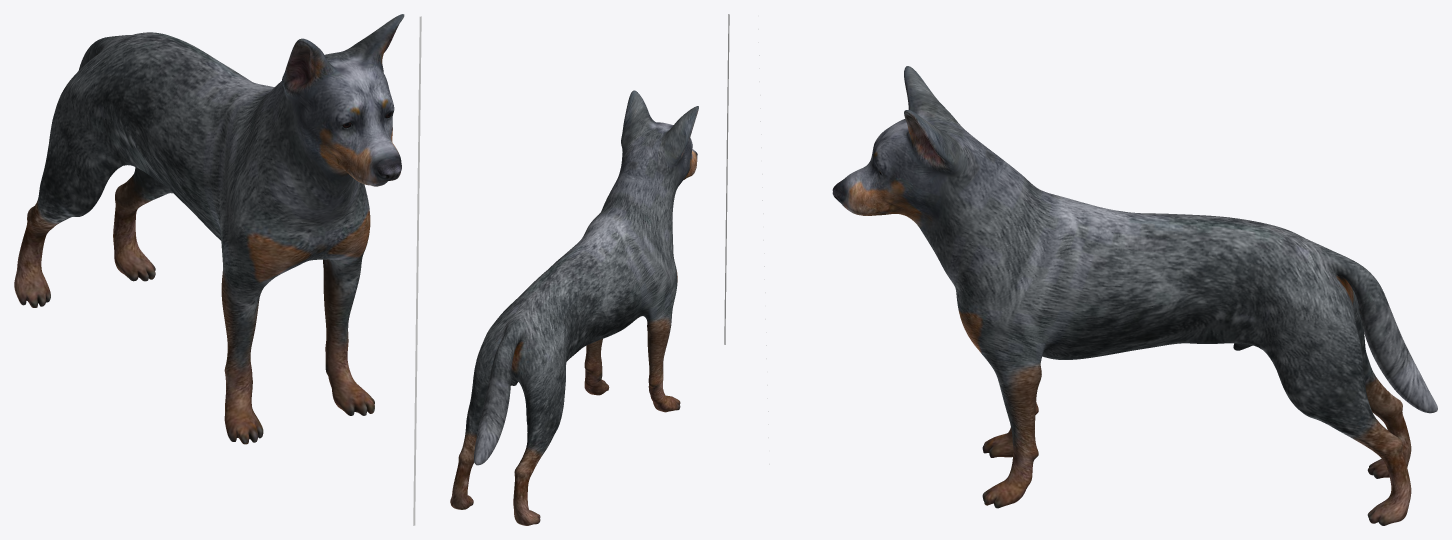
3 views of the same model, side by side, from view 1: azimuth 30°, elevation 25°; view 2: azimuth 150°, elevation 25°; view 3: azimuth 270°, elevation 25° (orthographic). The views are drawn at different scales.
Parts seen in each view (by area): view 1: 13463_Australian_Cattle_Dog_v3, Плоскость; view 2: 13463_Australian_Cattle_Dog_v3, Плоскость; view 3: 13463_Australian_Cattle_Dog_v3.
Boxes of the visible parts, x1,y1,x2,y2 form: 13463_Australian_Cattle_Dog_v3: [14, 14, 404, 444]; Плоскость: [413, 16, 421, 525]; 13463_Australian_Cattle_Dog_v3: [450, 90, 698, 525]; Плоскость: [724, 14, 729, 344]; 13463_Australian_Cattle_Dog_v3: [832, 66, 1437, 525].
Bounding box in the file's own units: 9.36 × 32.92 × 42.52.
Materials: 2 (1 with a texture image).
